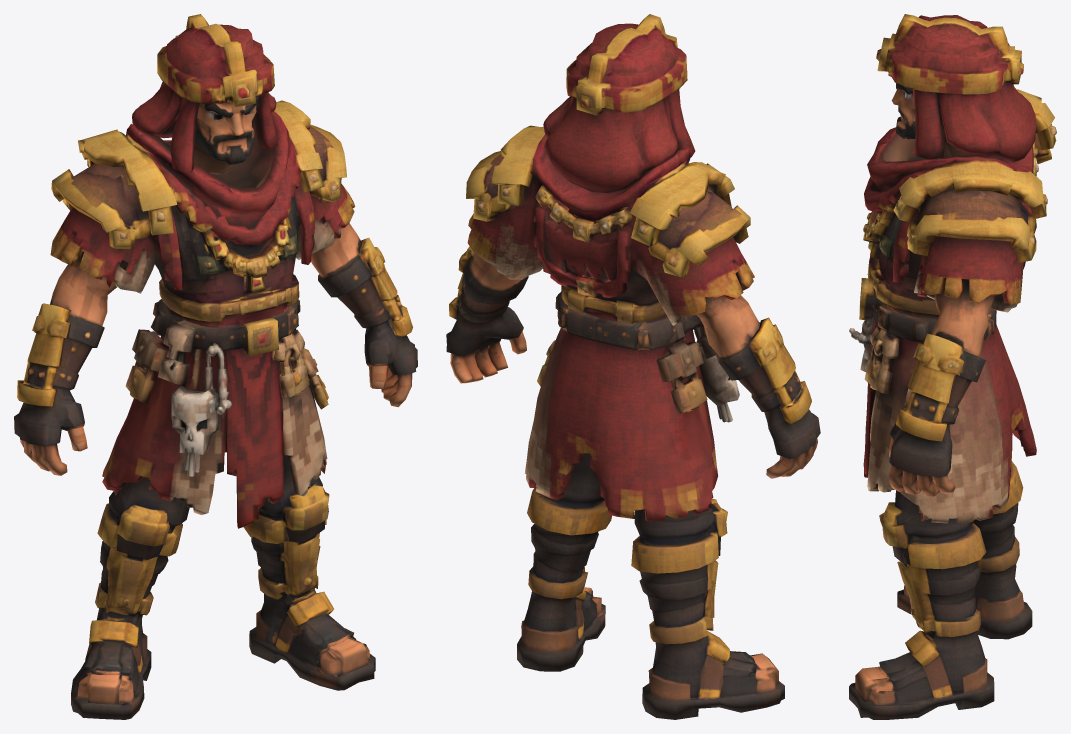
File: fantasy+warrior+3d+model.glb
The picture shows the model from 3 angles, left to right: view 1: azimuth 30°, elevation 25°; view 2: azimuth 150°, elevation 25°; view 3: azimuth 270°, elevation 25°; orthographic projection.
Visible parts, largest first — view 1: tripo_node_ee2bee6c-2821-4f74-afe8-5bf17f0883ed; view 2: tripo_node_ee2bee6c-2821-4f74-afe8-5bf17f0883ed; view 3: tripo_node_ee2bee6c-2821-4f74-afe8-5bf17f0883ed.
Boxes of the visible parts, x1,y1,x2,y2 form: tripo_node_ee2bee6c-2821-4f74-afe8-5bf17f0883ed: (14,14,417,719); tripo_node_ee2bee6c-2821-4f74-afe8-5bf17f0883ed: (446,14,820,719); tripo_node_ee2bee6c-2821-4f74-afe8-5bf17f0883ed: (849,14,1056,719).
Size of the model in its own units: 0.6079 by 0.9995 by 0.2925.
1 material, 1 textured.
